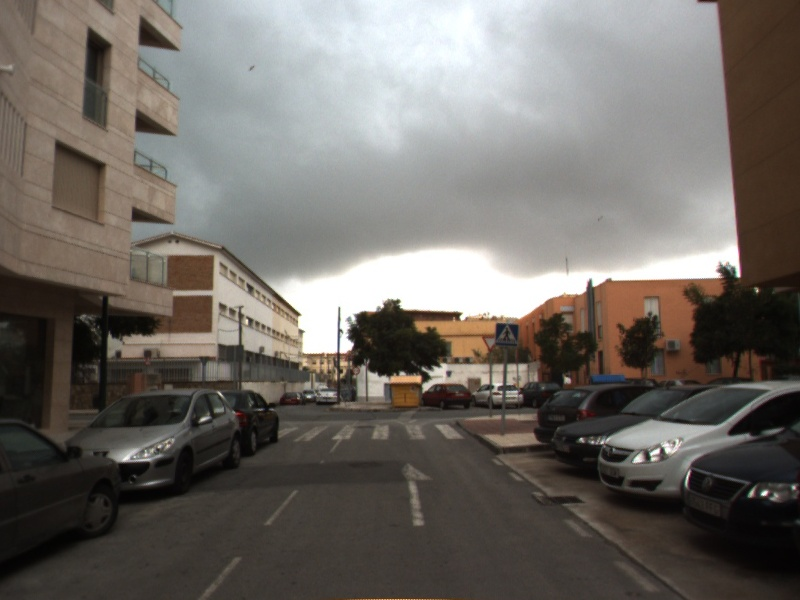STRAIGHT: (399, 461, 437, 527)
